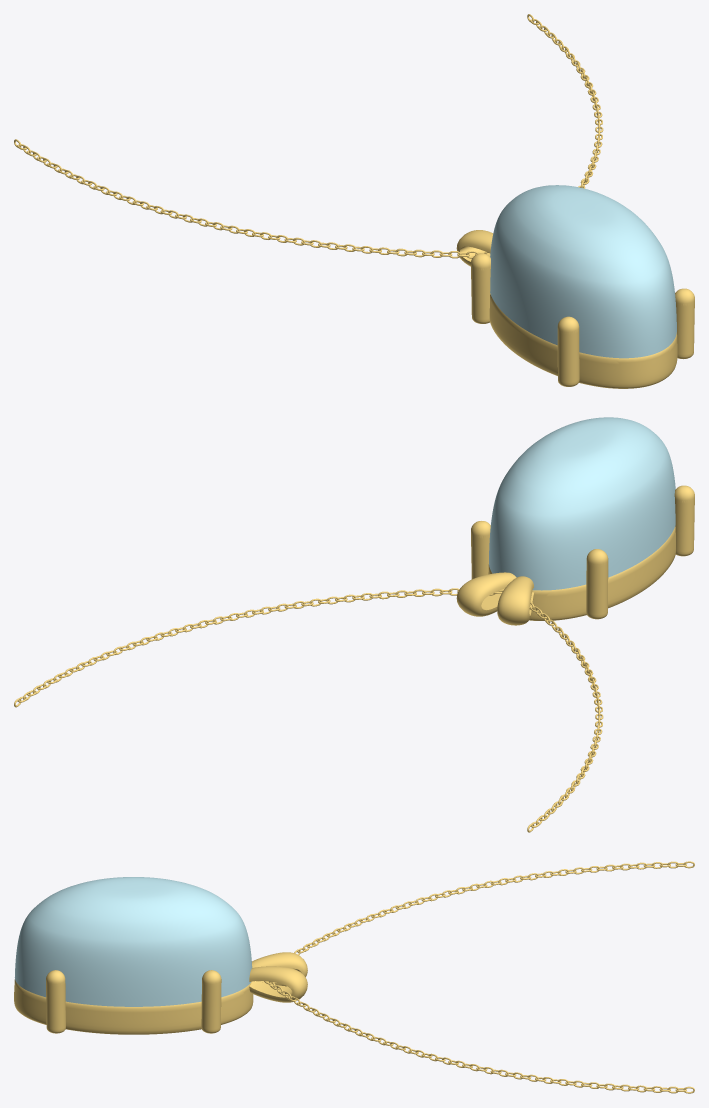
The model's file is EmmaOpalpendant.glb.
The picture shows the model from 3 angles, top to bottom: view 1: azimuth 30°, elevation 25°; view 2: azimuth 150°, elevation 25°; view 3: azimuth 270°, elevation 25°; orthographic projection. The views are drawn at different scales.
Parts seen in each view (by area): view 1: Emma opal for 3d model, Emma YG for 3d model; view 2: Emma opal for 3d model, Emma YG for 3d model; view 3: Emma opal for 3d model, Emma YG for 3d model.
Part boxes in pixels (x1,y1,x2,y2): Emma opal for 3d model: (490, 185, 676, 358); Emma YG for 3d model: (14, 14, 694, 388); Emma opal for 3d model: (489, 417, 675, 590); Emma YG for 3d model: (14, 485, 694, 832); Emma opal for 3d model: (14, 877, 252, 1006); Emma YG for 3d model: (14, 861, 694, 1093).
Size of the model in its own units: 27.62 by 6.69 by 34.82.
